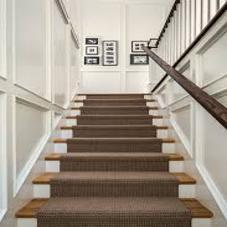Stair Up: (16, 92, 213, 226)
